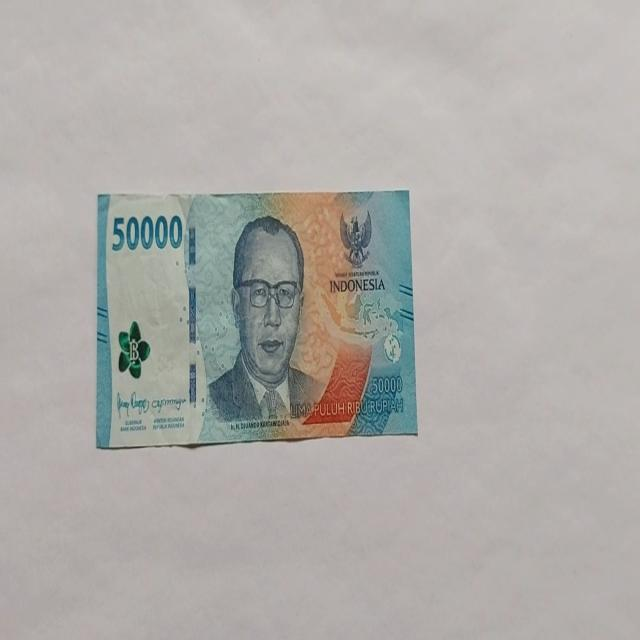lima puluh ribu rupiah: (95, 188, 418, 449), (200, 214, 328, 436)
